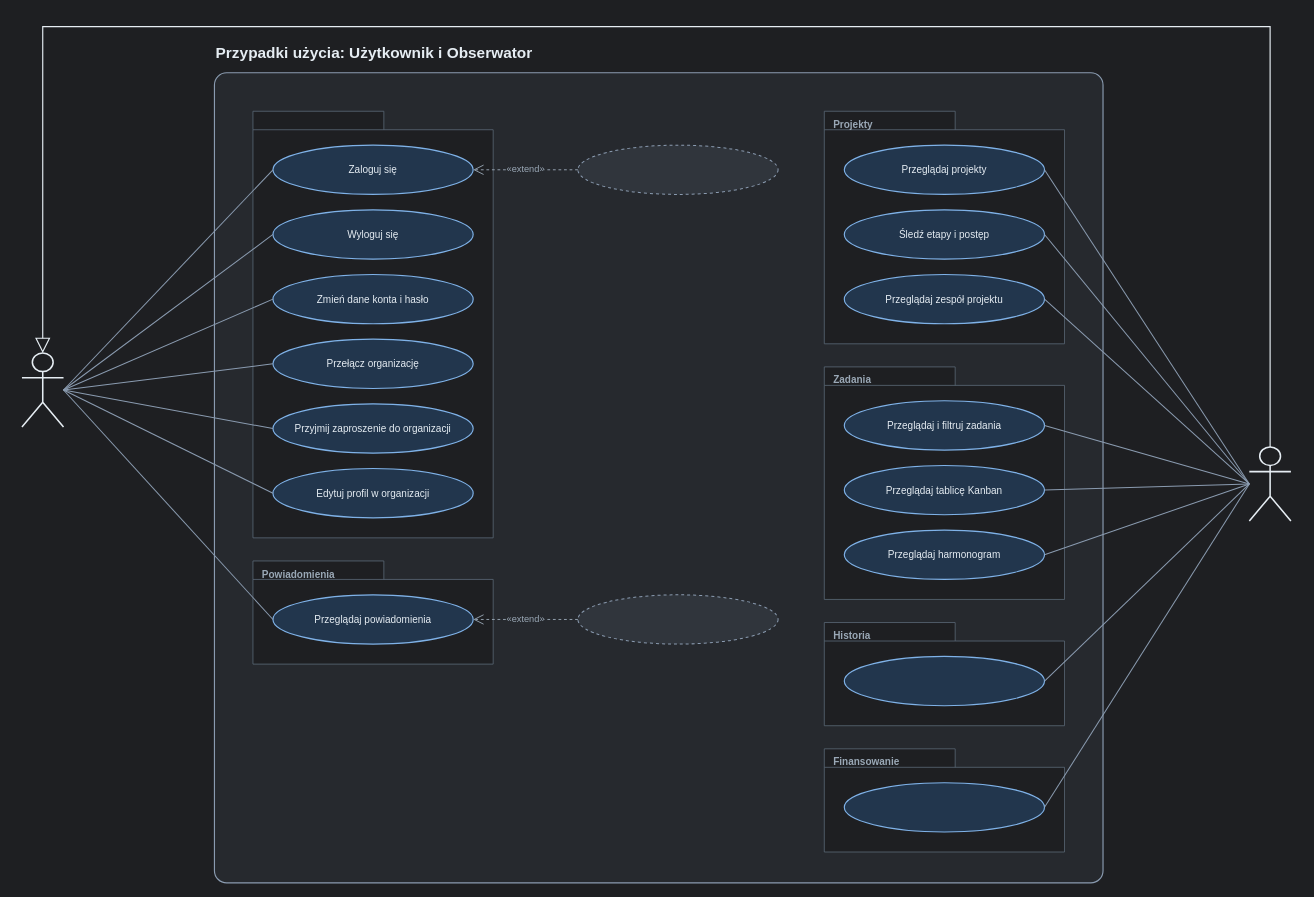
The diagram is 1314 pixels wide and 897 high, and some of its shapes have lost their labels. Here are the shapes that lost their labels. From the top down, the box of each, then its label:
(577, 144, 778, 195): Zresetuj hasło
(252, 110, 493, 538): Konto
(21, 352, 64, 427): Użytkownik
(1248, 446, 1291, 521): Obserwator
(577, 594, 778, 644): Oznacz jako przeczytane
(843, 656, 1045, 706): Przeglądaj historię zadania
(843, 782, 1045, 832): Przeglądaj finansowania
